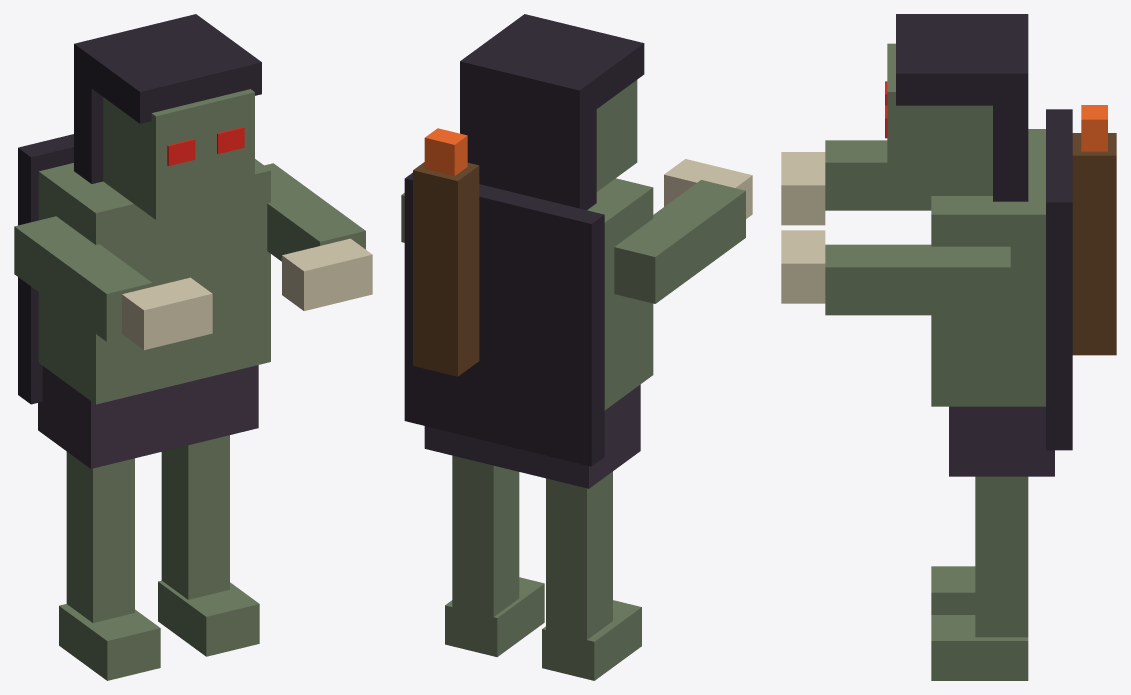
The model's file is crossbow_ghoul_placeholder.glb.
3 renders of one model, left to right at view 1: azimuth 30°, elevation 25°; view 2: azimuth 150°, elevation 25°; view 3: azimuth 270°, elevation 25°, orthographic. The views are drawn at different scales.
Parts seen in each view (by area): view 1: crossbow_ghoul_placeholder; view 2: crossbow_ghoul_placeholder; view 3: crossbow_ghoul_placeholder.
Boxes of the visible parts, left/top/right/bottom form: crossbow_ghoul_placeholder: left=14, top=14, right=372, bottom=680; crossbow_ghoul_placeholder: left=401, top=14, right=752, bottom=680; crossbow_ghoul_placeholder: left=781, top=14, right=1116, bottom=680.
Bounding box in the file's own units: 0.68 × 1.5 × 0.76.
Materials: 1 (1 with a texture image).
